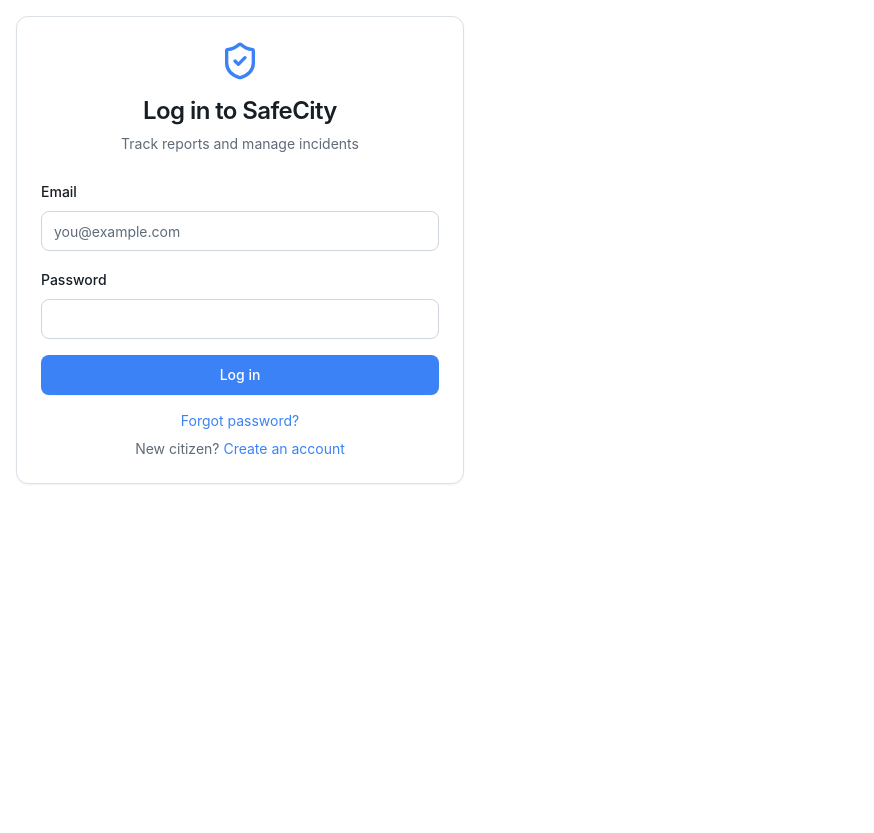
LoginPage › submits credentials and shows success toast
In the field labelled "Email": (240, 231) [41,211,439,251], type "c@test.local"
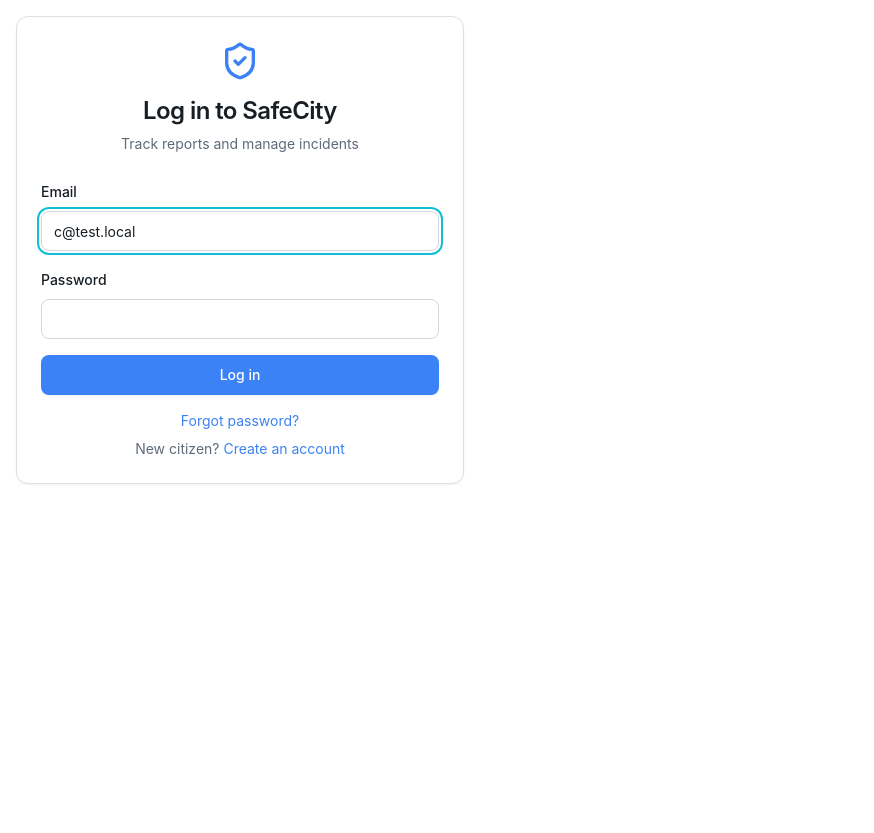
In the password field labelled "Password": (240, 319) [41,299,439,339], type "Password123!"
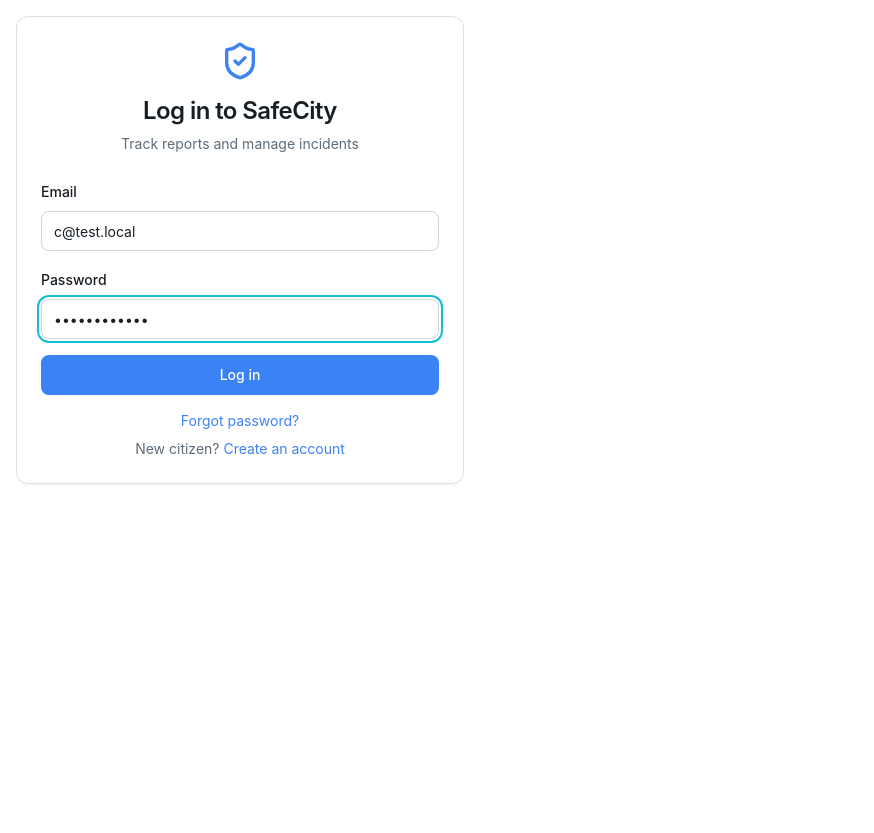
Click the button "Log in": (240, 375) [41,355,439,395]
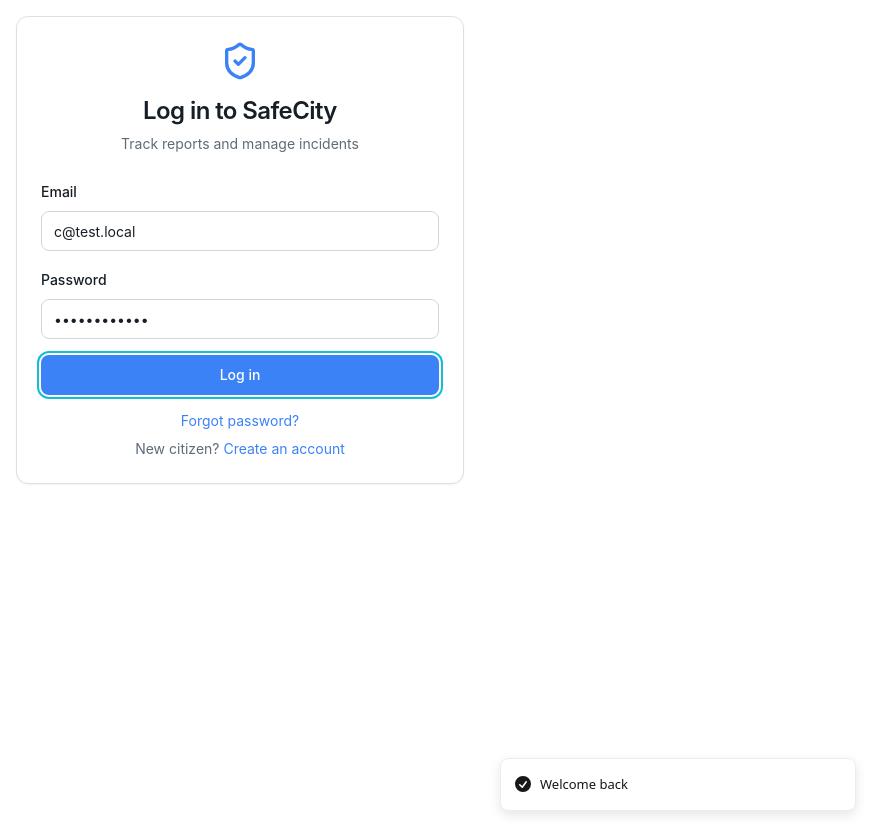
expect the text "Welcome back" is shown: met, box [540,774,628,794]
